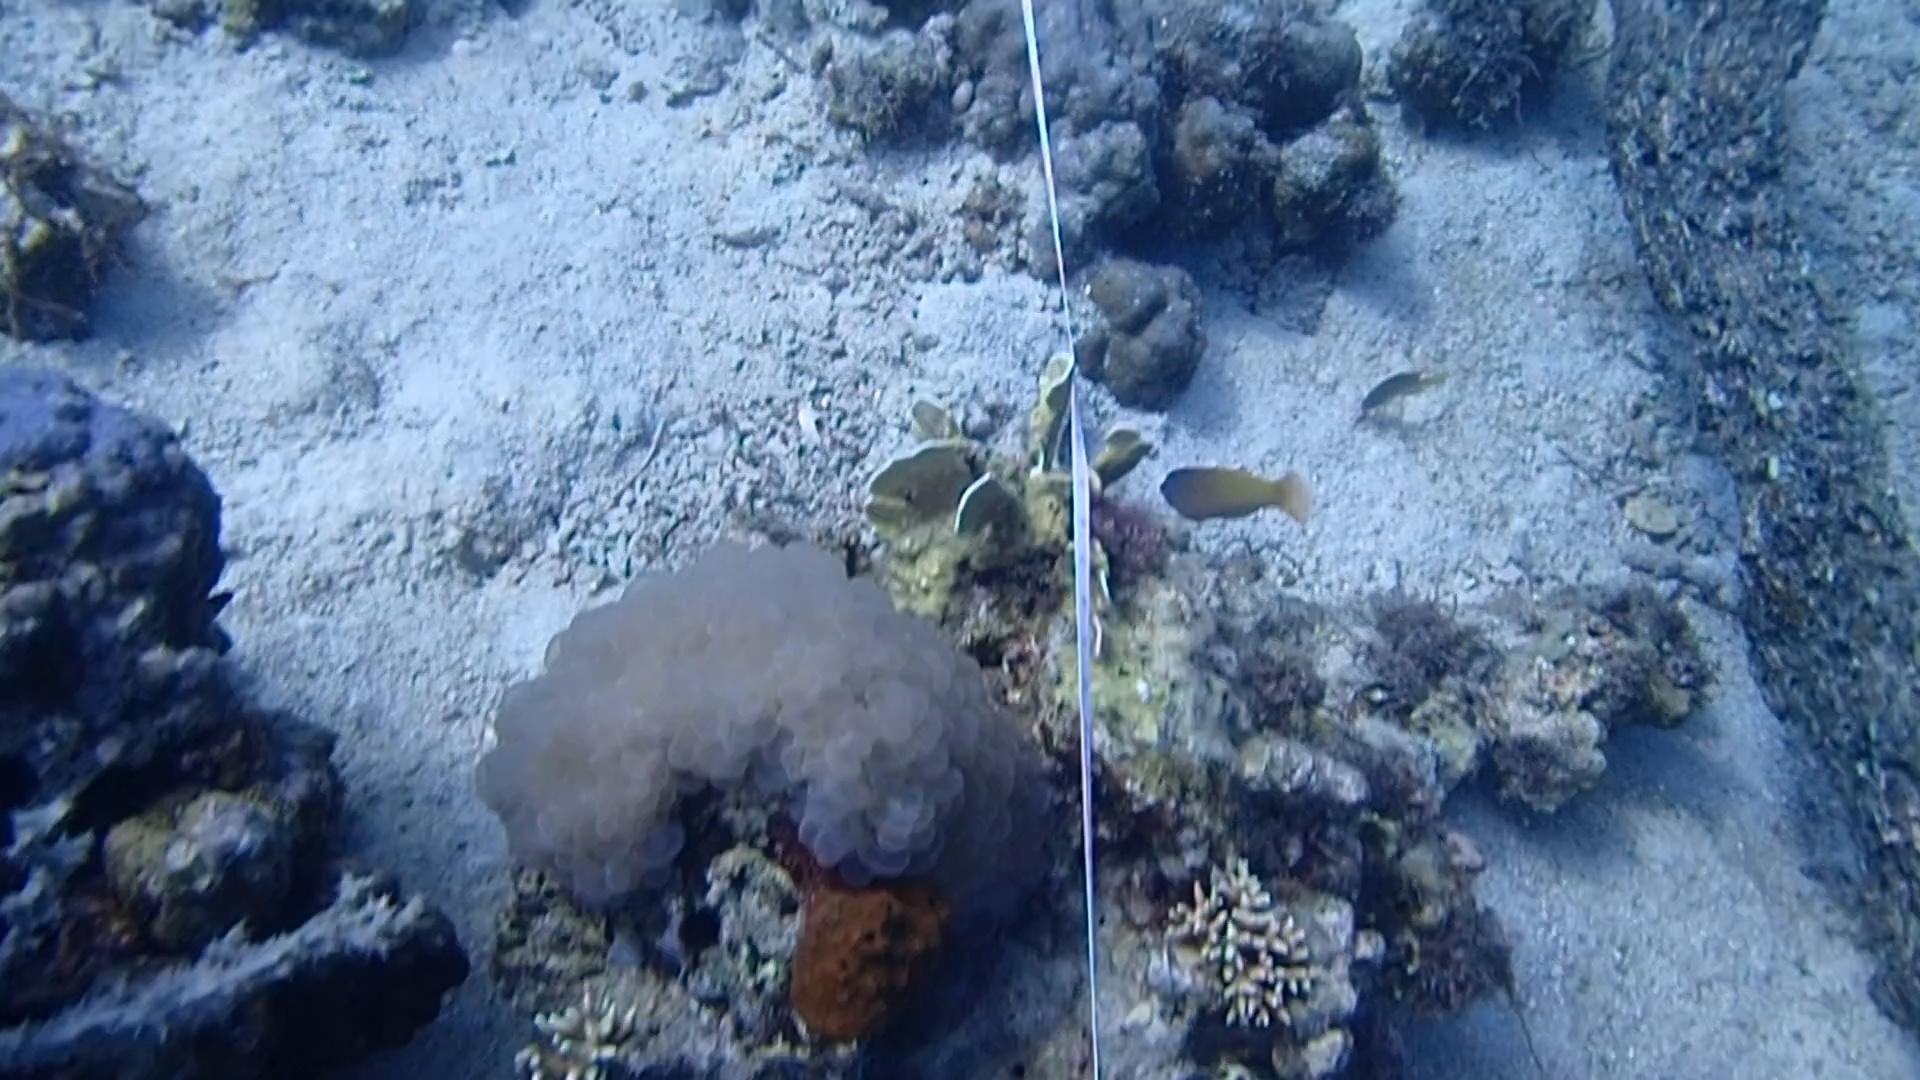Light Fish: (1342, 355, 1444, 427)
Yellow-Blue Fish: (1154, 454, 1312, 530)
